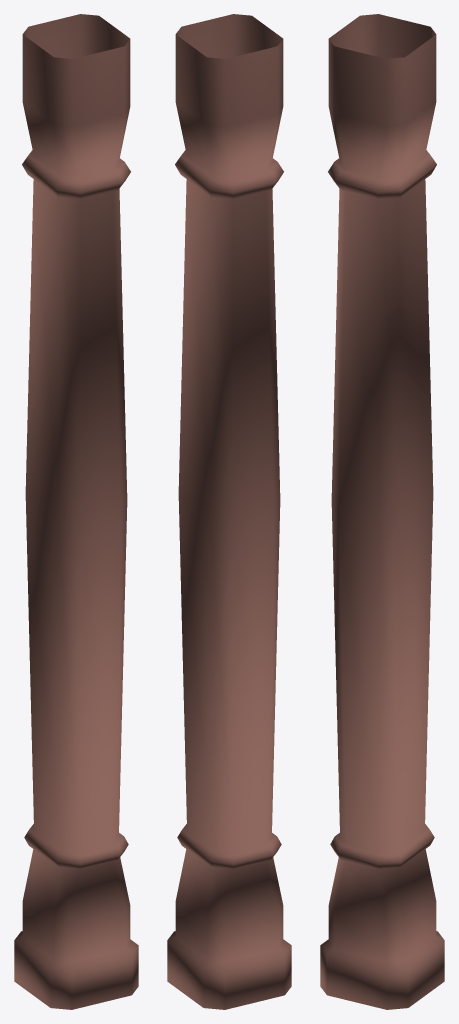
File: poteau.fbx
The picture shows the model from 3 angles, left to right: view 1: azimuth 30°, elevation 25°; view 2: azimuth 210°, elevation 25°; view 3: azimuth 330°, elevation 25°; orthographic projection.
Parts seen in each view (by area): view 1: Cube.013; view 2: Cube.013; view 3: Cube.013.
Boxes of the visible parts, bbox=[...] form: Cube.013: bbox=[14, 14, 138, 1009]; Cube.013: bbox=[167, 14, 291, 1009]; Cube.013: bbox=[320, 14, 444, 1009].
Bounding box in the file's own units: 58.53 × 602 × 58.95.
